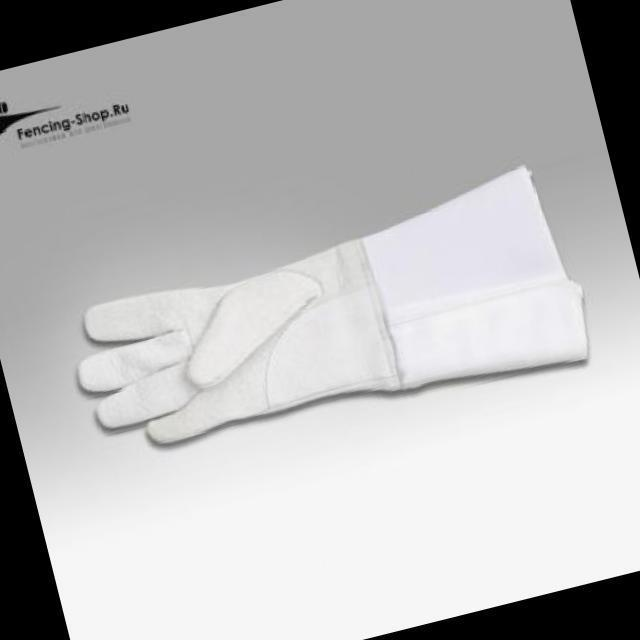Gloves: (77, 165, 585, 455)
